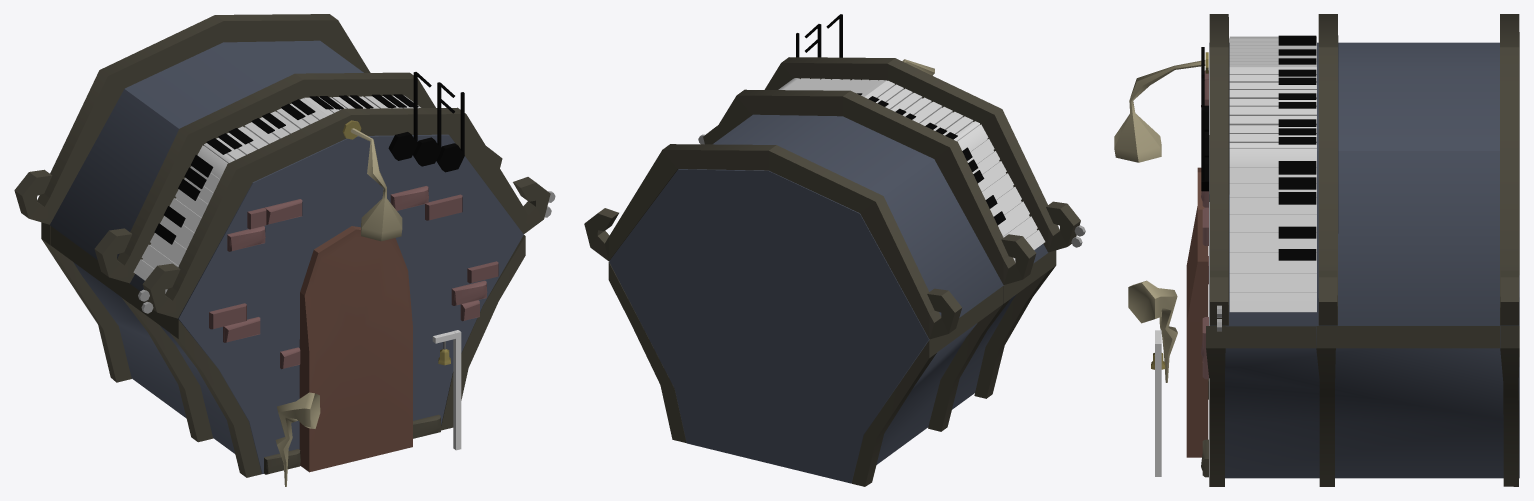
File: Music_Store_Part_03.fbx
3 views of the same model, side by side, from view 1: azimuth 30°, elevation 25°; view 2: azimuth 150°, elevation 25°; view 3: azimuth 270°, elevation 25° (orthographic). The views are drawn at different scales.
Parts seen in each view (by area): view 1: music_store_3; view 2: music_store_3; view 3: music_store_3.
Boxes of the visible parts, bbox=[...] form: music_store_3: bbox=[14, 14, 555, 486]; music_store_3: bbox=[584, 14, 1085, 486]; music_store_3: bbox=[1114, 14, 1519, 486].
Bounding box in the file's own units: 1661 × 1401 × 1238.
